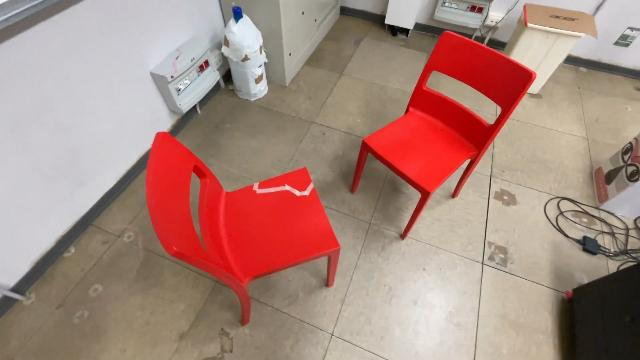Chair: (347, 26, 539, 244), (144, 129, 342, 329)
